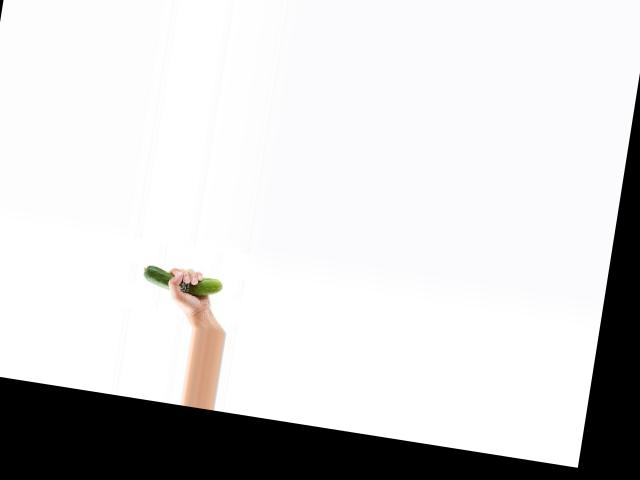cucumber: (141, 263, 223, 299)
